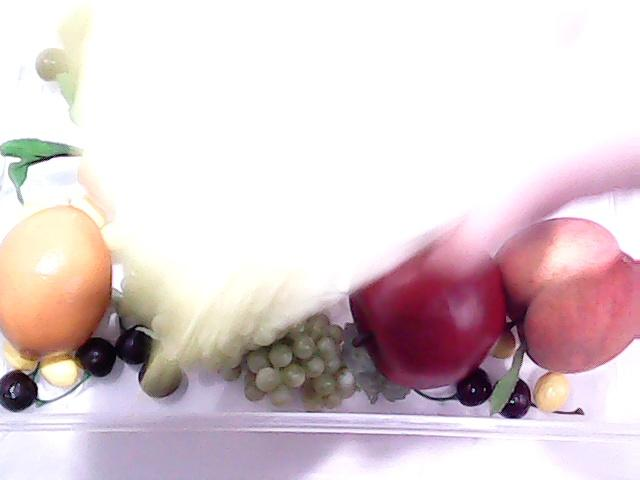apple: (329, 224, 513, 392)
carrot: (0, 60, 122, 224)
grape: (202, 310, 410, 414)
lemon: (0, 191, 112, 365)
napa cabbage: (118, 248, 414, 392)
peach: (496, 217, 640, 375)
